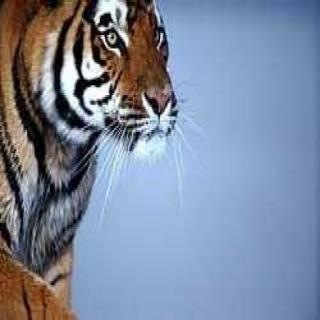Tiger: (0, 0, 187, 316)
